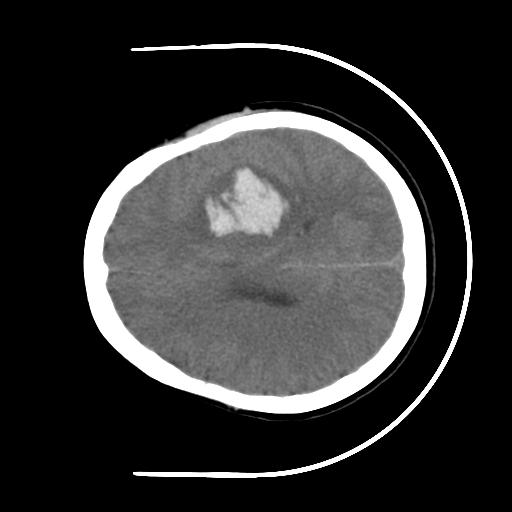a: (183, 154, 307, 258)
